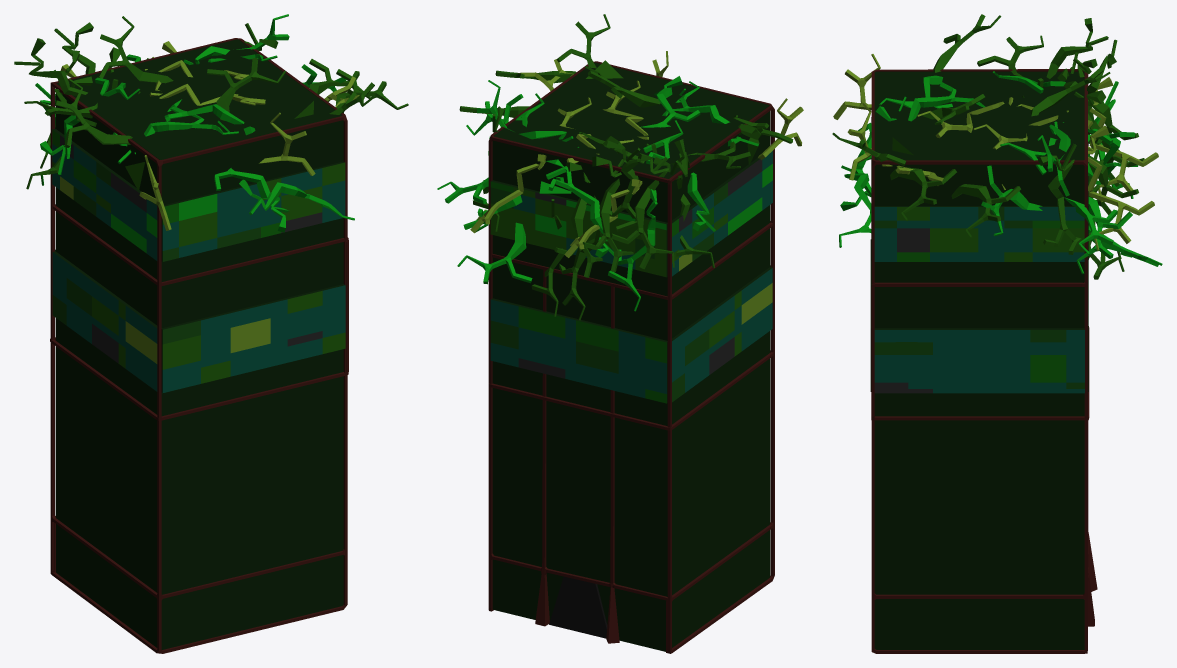
Rendered from BusinessBuilding.fbx.
The picture shows the model from 3 angles, left to right: view 1: azimuth 30°, elevation 25°; view 2: azimuth 150°, elevation 25°; view 3: azimuth 270°, elevation 25°; orthographic projection. The views are drawn at different scales.
Visible parts, largest first — view 1: Main Building, Trimmings, Back Window 1, Back Window 2, Right Window 1, Right Window 2, Cube.035, Back Window 1.002, Back Window 2.002, Back Window 1.006, Back Window 2.008, Cube.023 (+17 smaller); view 2: Main Building, Trimmings, Front Window 1, Right Window 1, Front Window 2, Right Window 2, Doorway, Cube.003, Cube.004, Front Window 1.014, Cube.006, Cube.020 (+25 smaller); view 3: Main Building, Left Window 1, Trimmings, Left Window 2, Cube.005, Left Window 2.004, Cube.016, Left Window.001, Cube.014, Left Window 2.008, Cube.037, Cube.015 (+22 smaller).
Part boxes in pixels (<box>): Main Building: <box>52,39,345,649</box>; Trimmings: <box>50,38,348,653</box>; Back Window 1: <box>162,285,345,392</box>; Back Window 2: <box>162,168,345,257</box>; Right Window 1: <box>52,252,157,391</box>; Right Window 2: <box>52,144,157,260</box>; Cube.035: <box>54,79,144,189</box>; Back Window 1.002: <box>230,318,270,352</box>; Back Window 2.002: <box>179,212,217,246</box>; Back Window 1.006: <box>162,335,200,369</box>; Back Window 2.008: <box>281,186,322,220</box>; Cube.023: <box>98,16,173,83</box>; Main Building: <box>491,62,772,651</box>; Trimmings: <box>488,61,774,653</box>; Front Window 1: <box>490,299,666,398</box>; Right Window 1: <box>672,268,772,392</box>; Front Window 2: <box>490,187,666,274</box>; Right Window 2: <box>672,151,772,276</box>; Doorway: <box>549,576,607,638</box>; Cube.003: <box>610,153,674,269</box>; Cube.004: <box>582,156,633,271</box>; Front Window 1.014: <box>518,306,565,338</box>; Cube.006: <box>546,147,613,257</box>; Cube.020: <box>643,120,715,231</box>; Main Building: <box>870,71,1088,650</box>; Left Window 1: <box>874,330,1084,393</box>; Trimmings: <box>871,69,1097,653</box>; Left Window 2: <box>874,207,1084,261</box>; Cube.005: <box>1088,125,1154,250</box>; Left Window 2.004: <box>930,228,978,252</box>; Cube.016: <box>1038,143,1090,254</box>; Left Window.001: <box>1030,355,1066,382</box>; Cube.014: <box>1089,77,1158,202</box>; Left Window 2.008: <box>1032,228,1084,252</box>; Cube.037: <box>890,137,956,220</box>; Cube.015: <box>951,184,1020,238</box>.
Size of the model in its own units: 548 by 859 by 478.
